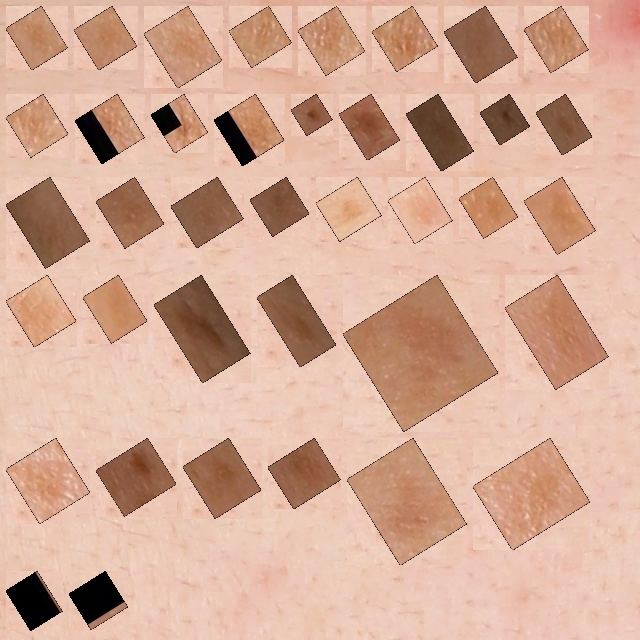melasma: (354, 286, 487, 420), (358, 449, 456, 554), (484, 449, 579, 539), (516, 286, 597, 378), (165, 286, 239, 372), (17, 188, 79, 257), (268, 286, 325, 356), (17, 449, 79, 513), (155, 17, 211, 77), (107, 449, 165, 505), (194, 449, 250, 507), (455, 17, 506, 72), (535, 188, 585, 243), (417, 105, 463, 160), (182, 188, 233, 237), (279, 449, 330, 498), (225, 105, 273, 155), (17, 286, 65, 336), (86, 105, 133, 153), (107, 188, 153, 237), (309, 17, 354, 64), (94, 286, 136, 332), (383, 17, 427, 60), (535, 17, 577, 62), (399, 188, 441, 233), (327, 188, 370, 230), (85, 17, 126, 59), (350, 105, 389, 149), (17, 17, 57, 59), (17, 105, 57, 146), (240, 17, 281, 56), (470, 188, 507, 227), (261, 188, 298, 225), (80, 582, 117, 618), (547, 105, 581, 144), (162, 105, 197, 142), (17, 582, 51, 619)
nevus: (302, 105, 321, 124)
